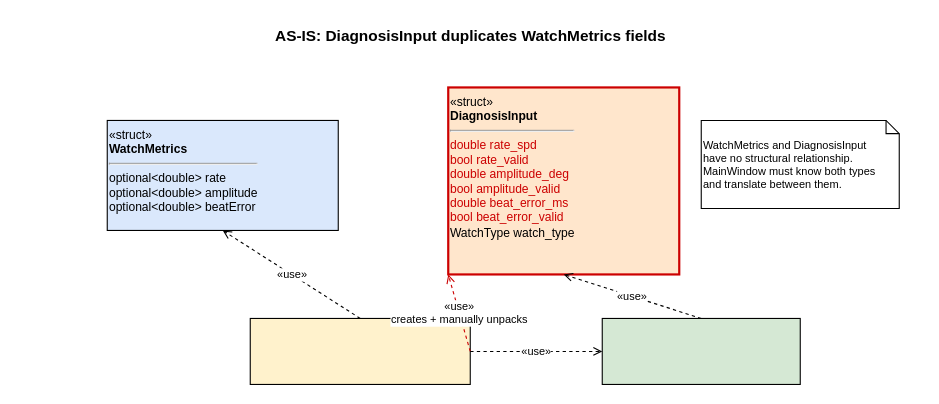
Image size: 939x404. Some labels were removed from this diagram. Here are the shapes that lost their labels. From the top down, the centre of each, then its label:
At (x=359, y=350): "MainWindow ::DisplayResults()".
At (x=700, y=350): "WatchDiagnostics ::Evaluate()".
